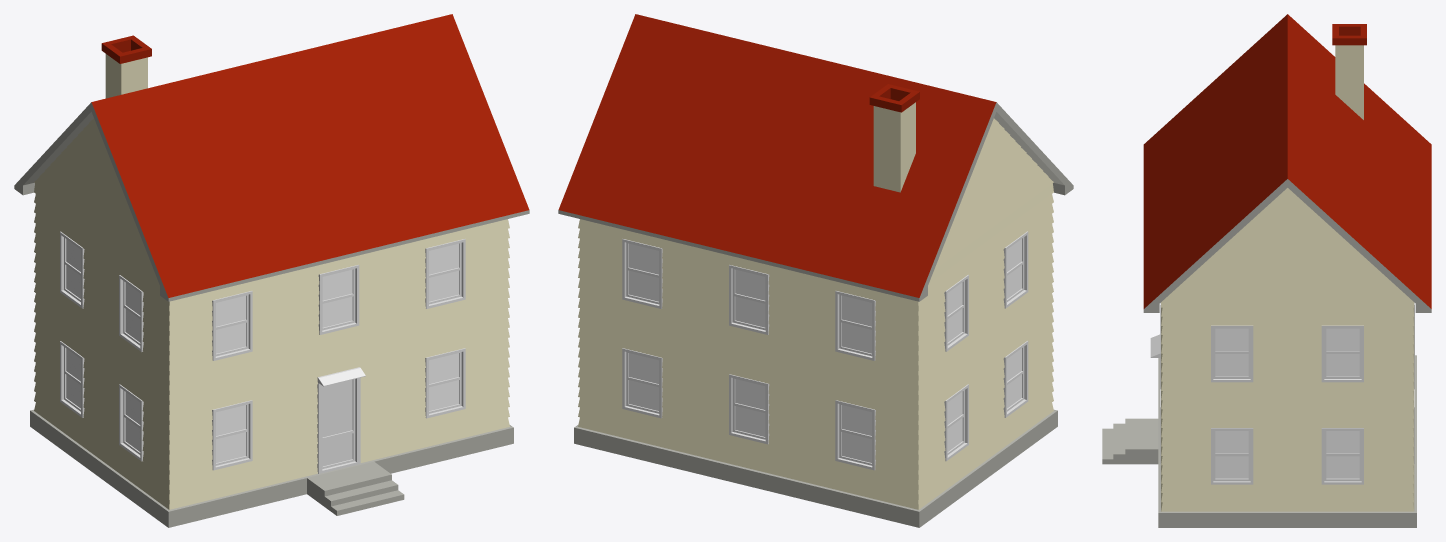
Rendered from House_FBX.FBX.
3 views of the same model, side by side, from view 1: azimuth 30°, elevation 25°; view 2: azimuth 150°, elevation 25°; view 3: azimuth 270°, elevation 25° (orthographic). The views are drawn at different scales.
Visible parts, largest first — view 1: Wall, Roof, Glass, Windows, Door, Pipe; view 2: Wall, Roof, Glass, Windows, Pipe; view 3: Wall, Roof, Glass, Windows, Pipe.
Boxes of the visible parts, <box> form: Wall: <box>30,118,513,527</box>; Roof: <box>14,14,529,301</box>; Glass: <box>66,239,459,462</box>; Windows: <box>60,231,465,470</box>; Door: <box>317,367,365,473</box>; Pipe: <box>101,35,151,98</box>; Wall: <box>574,118,1057,527</box>; Roof: <box>558,14,1073,301</box>; Glass: <box>629,239,1021,462</box>; Windows: <box>622,231,1028,470</box>; Pipe: <box>869,84,919,192</box>; Wall: <box>1102,188,1416,527</box>; Roof: <box>1143,14,1431,312</box>; Glass: <box>1215,328,1359,478</box>; Windows: <box>1160,302,1414,484</box>; Pipe: <box>1332,24,1366,119</box>.
Size of the model in its own units: 203 by 211 by 171.
